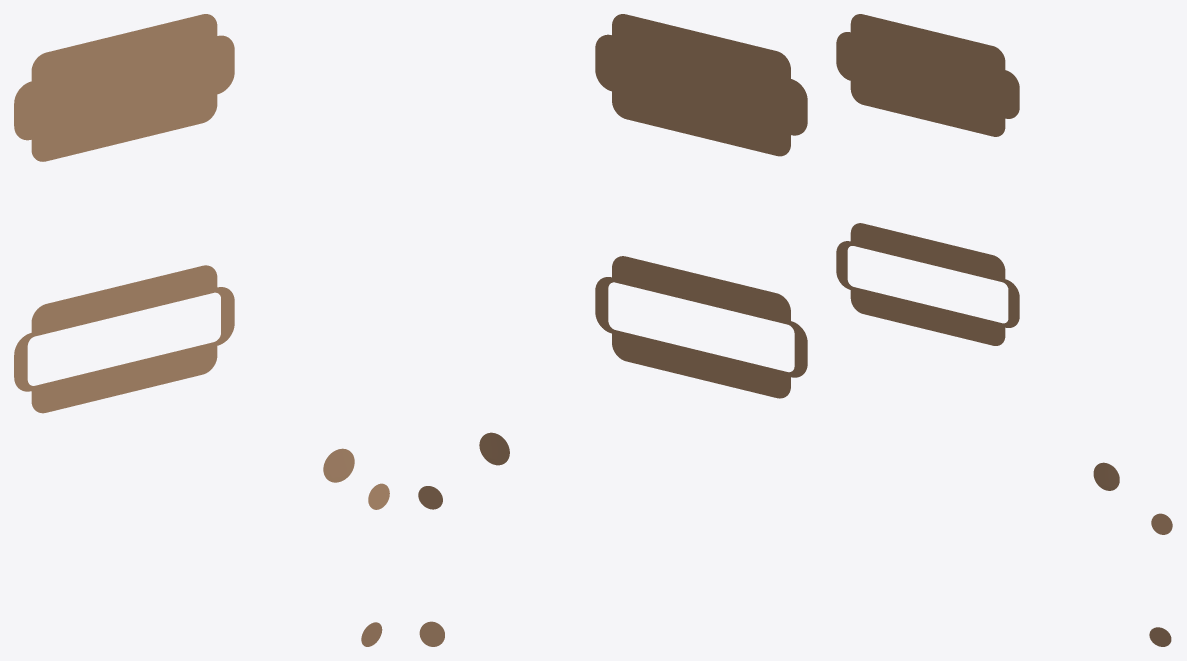
File: oryx_tremolo_pickup_fills.glb
3 renders of one model, left to right at view 1: azimuth 30°, elevation 25°; view 2: azimuth 150°, elevation 25°; view 3: azimuth 330°, elevation 25°, orthographic. The views are drawn at different scales.
Visible parts, largest first — view 1: neck_full, bridge_single, neck_single, switch; view 2: neck_full, bridge_single, neck_single, switch; view 3: neck_full, bridge_single, neck_single, switch.
Part boxes in pixels (x1,y1,x2,y2): neck_full: (14,14,234,161); bridge_single: (14,265,234,413); neck_single: (14,38,234,139); switch: (323,448,354,482); neck_full: (595,14,807,156); bridge_single: (595,256,807,398); neck_single: (595,37,807,134); switch: (479,432,509,465); neck_full: (836,14,1019,136); bridge_single: (836,223,1019,345); neck_single: (836,24,1019,116); switch: (1093,462,1119,490).
Bounding box in the file's own units: 0.1574 × 0.2659 × 0.0124.
